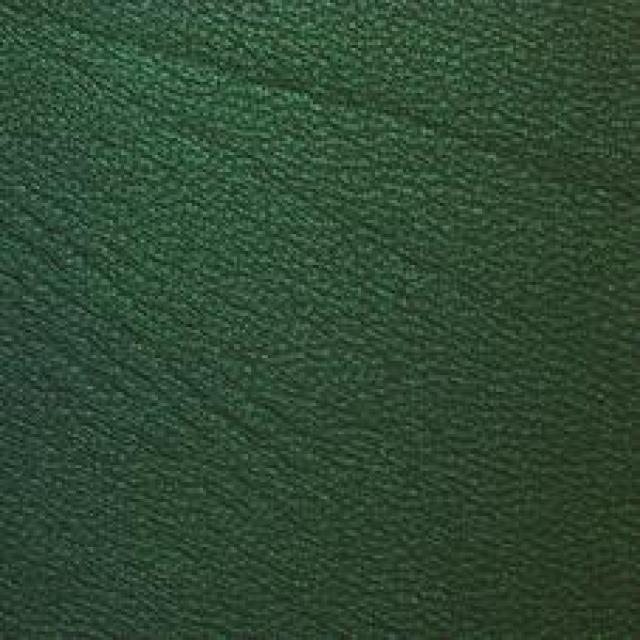Growth Marks: (25, 267, 294, 487)
